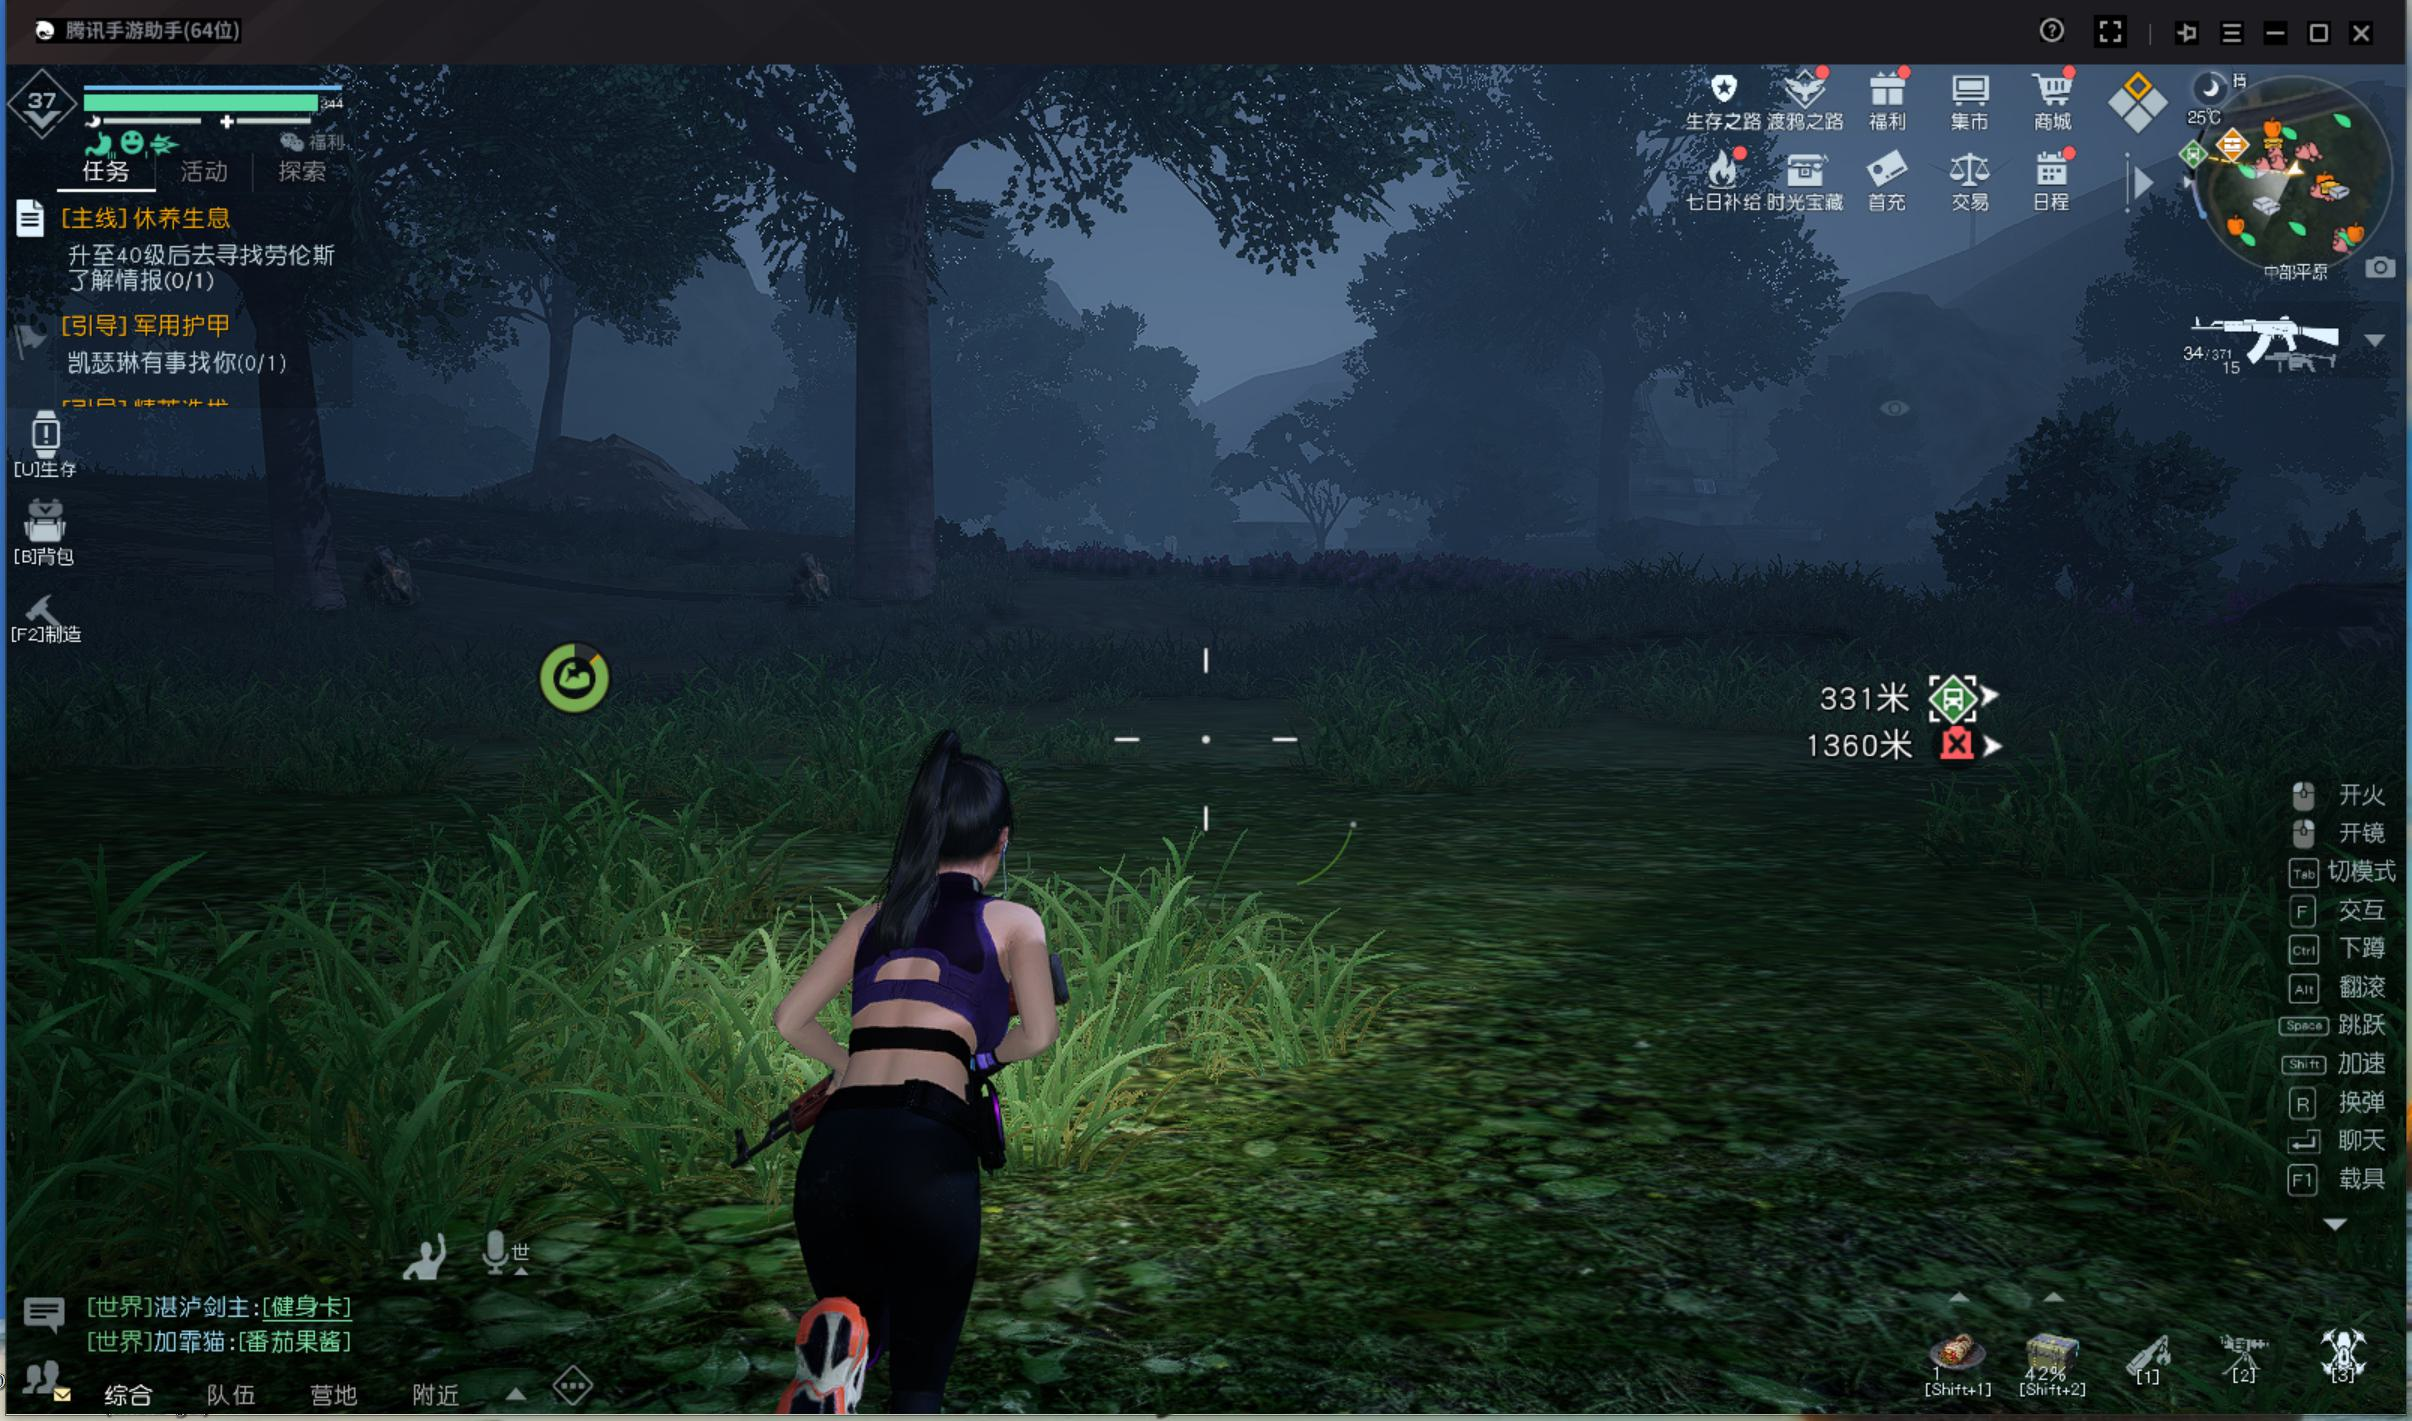stone: (357, 541, 425, 617), (770, 546, 841, 617)
tree: (856, 306, 952, 614), (242, 343, 343, 621), (1597, 391, 1637, 568)
